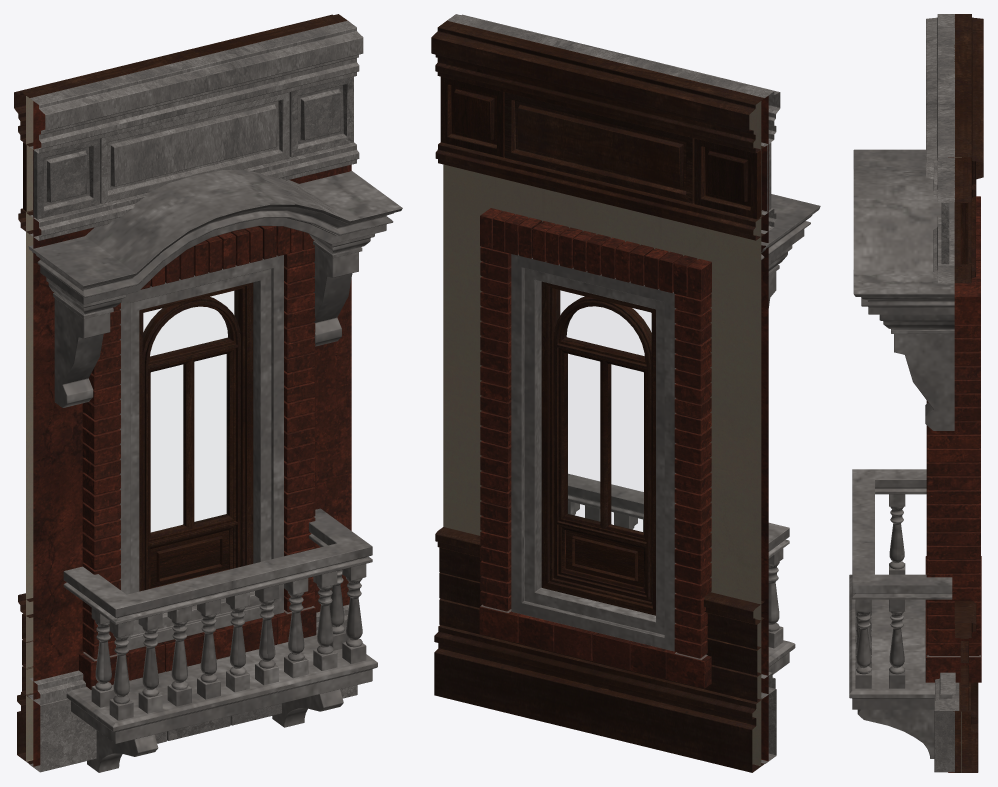
File: SK6 WINDOW 1 BALCONY.fbx
3 renders of one model, left to right at view 1: azimuth 30°, elevation 25°; view 2: azimuth 150°, elevation 25°; view 3: azimuth 270°, elevation 25°, orthographic. The views are drawn at different scales.
Parts seen in each view (by area): view 1: SK6 WINDOW 1 BALCONY; view 2: SK6 WINDOW 1 BALCONY; view 3: SK6 WINDOW 1 BALCONY.
Boxes of the visible parts, bbox=[...] form: SK6 WINDOW 1 BALCONY: bbox=[14, 14, 402, 772]; SK6 WINDOW 1 BALCONY: bbox=[431, 14, 820, 772]; SK6 WINDOW 1 BALCONY: bbox=[849, 14, 983, 772].
Size of the model in its own units: 201 by 408 by 79.09.
